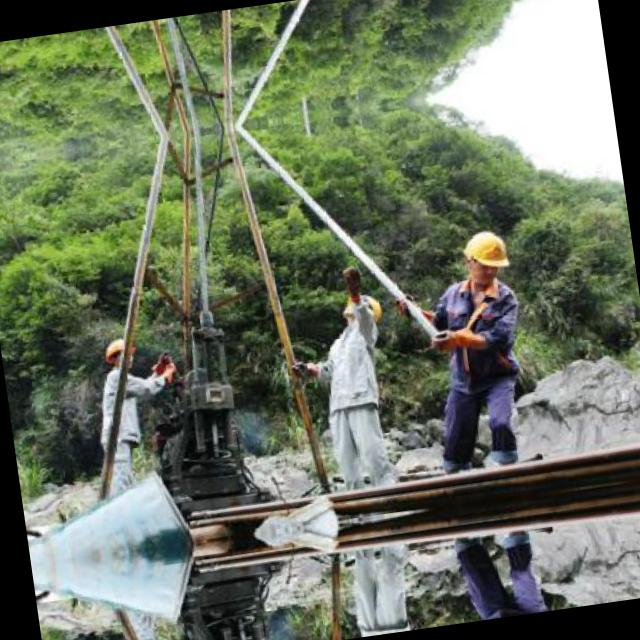helmet: (456, 221, 514, 286), (336, 284, 384, 327), (96, 333, 136, 372)
